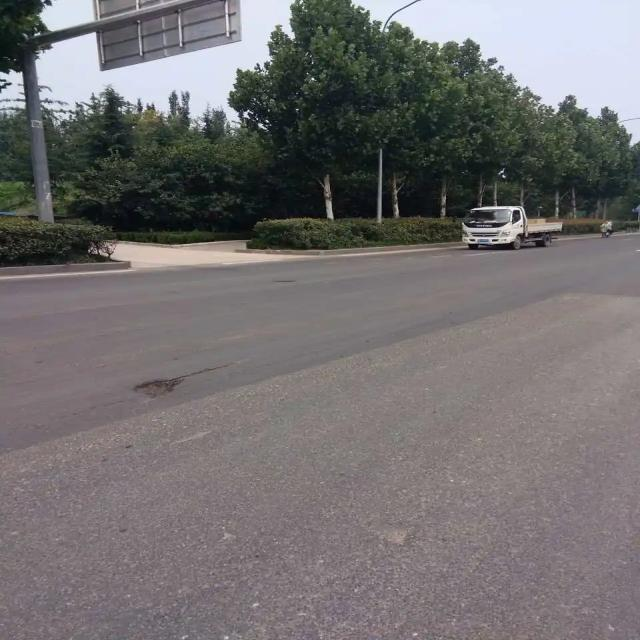Pothole: (130, 362, 235, 398), (272, 278, 295, 286)
